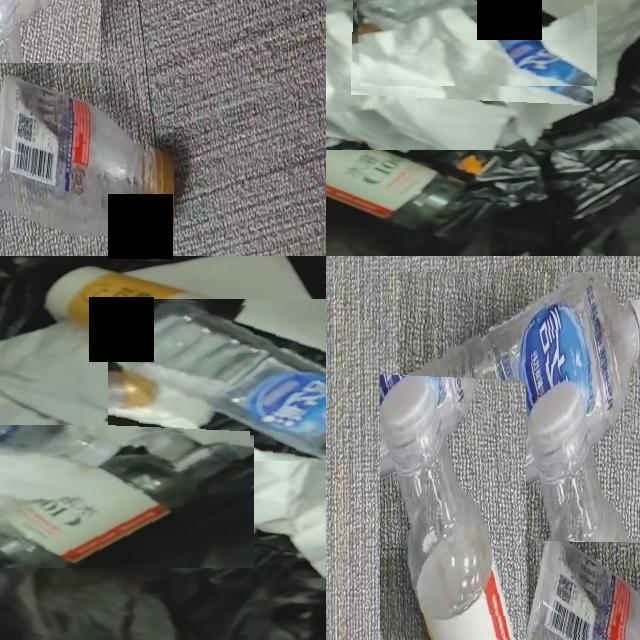bottle: (400, 278, 640, 541), (0, 431, 254, 568), (381, 376, 512, 640), (108, 302, 326, 457), (0, 76, 174, 236), (356, 0, 597, 86), (326, 135, 467, 228), (527, 533, 640, 640)
dixie_cup: (44, 267, 228, 360)
paper: (326, 0, 640, 150), (134, 432, 326, 578), (128, 256, 321, 350), (0, 322, 149, 440)
